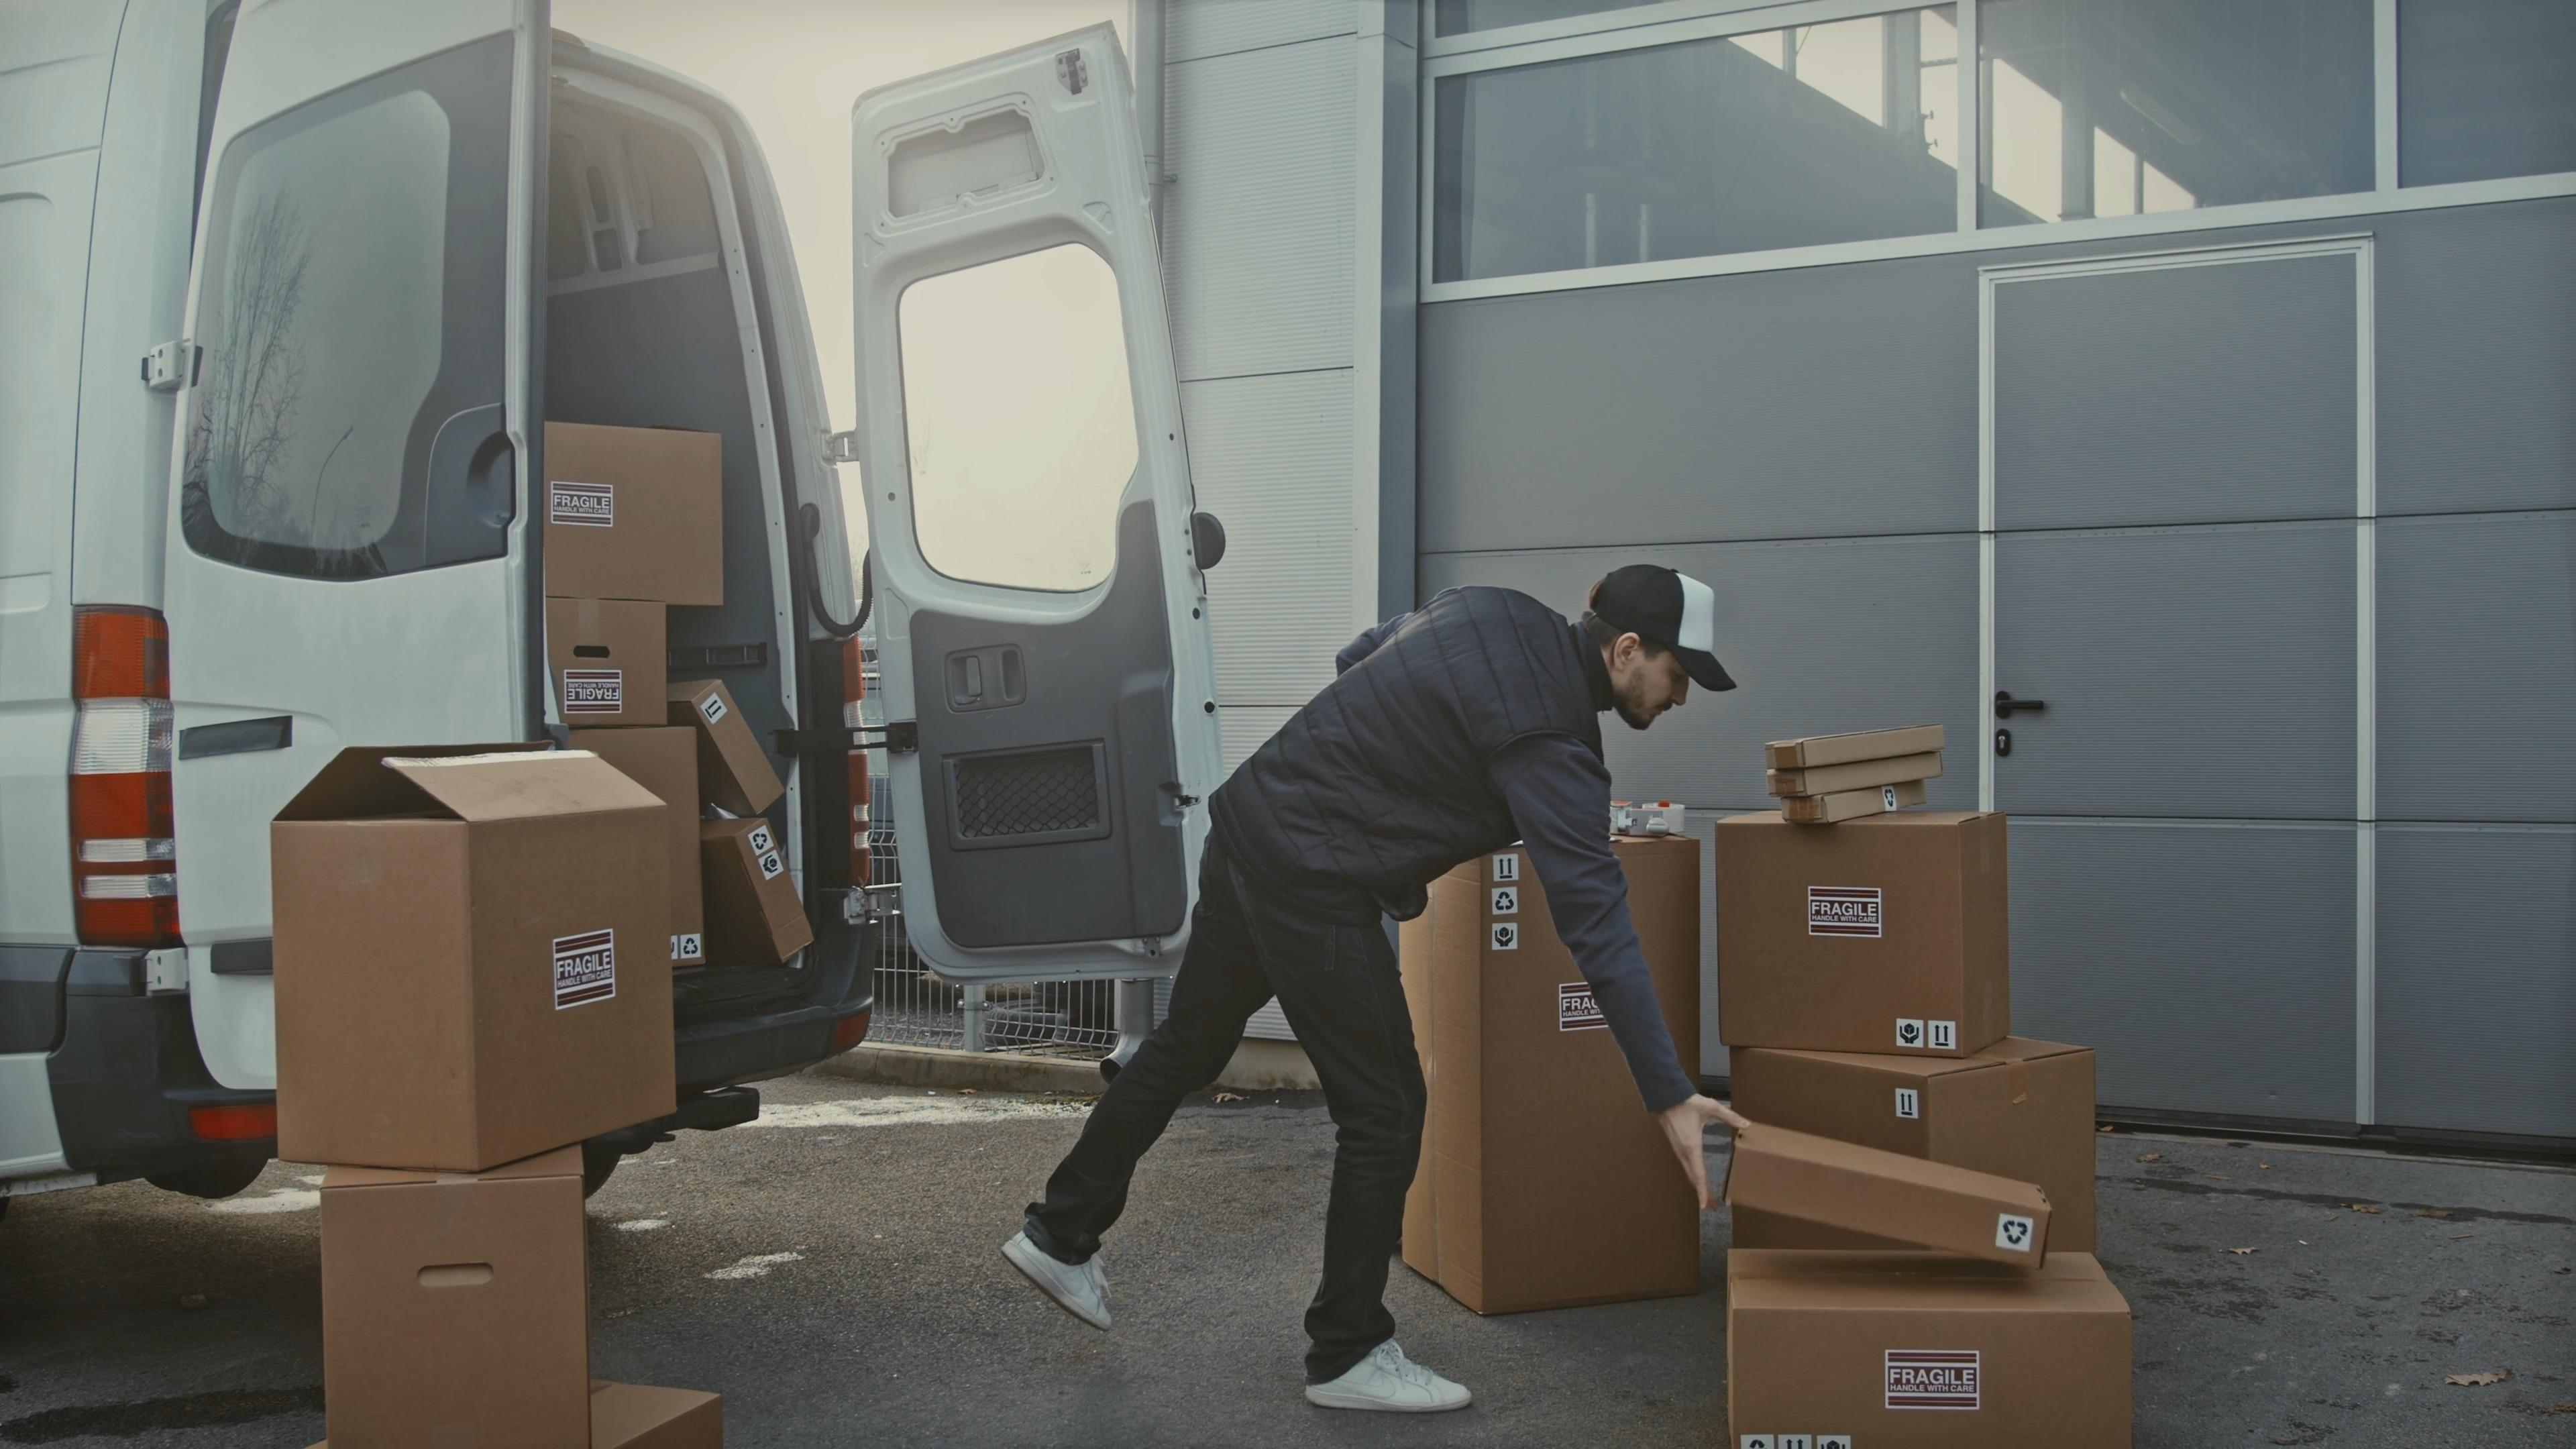-: (272, 738, 672, 1182), (1407, 826, 1700, 1315), (1714, 809, 2019, 1058), (1729, 1265, 2137, 1449), (1744, 1051, 2102, 1256), (326, 1164, 582, 1444), (1704, 1088, 2052, 1272), (557, 426, 745, 607), (547, 598, 662, 727)
